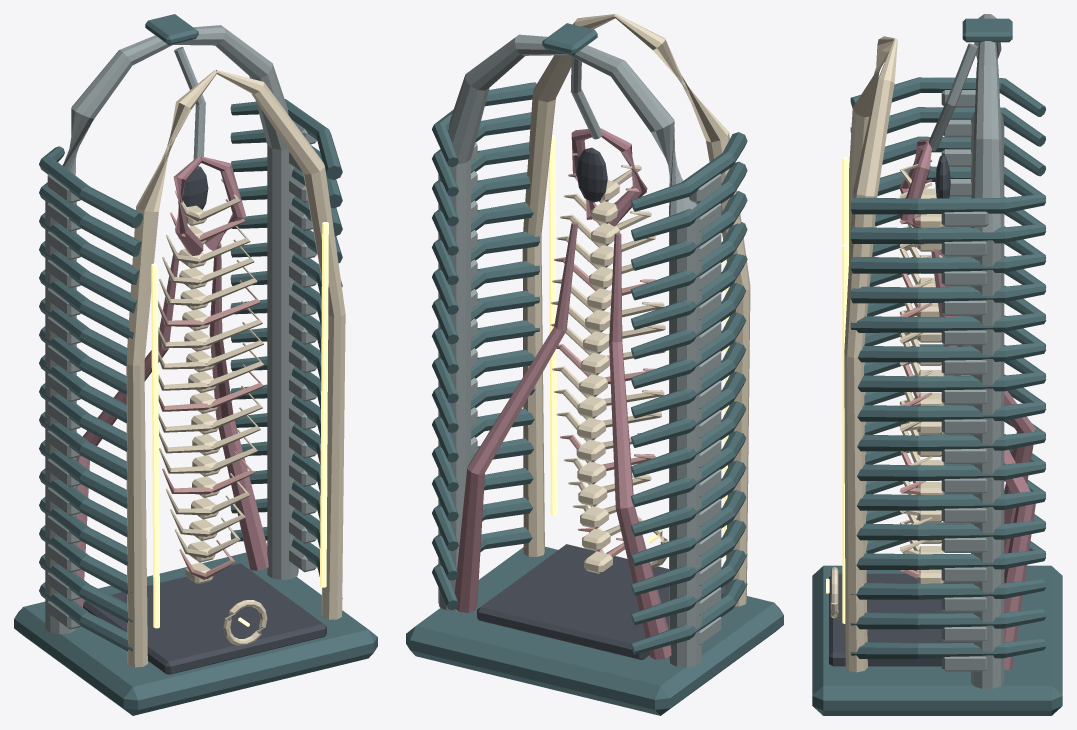
File: containment_capsule.glb
3 views of the same model, side by side, from view 1: azimuth 30°, elevation 25°; view 2: azimuth 150°, elevation 25°; view 3: azimuth 270°, elevation 25° (orthographic). The views are drawn at different scales.
Parts seen in each view (by area): view 1: containment_capsule_petrol, containment_capsule_warm, containment_capsule_worn, containment_capsule_deep, containment_capsule_bruised, containment_capsule_sick, containment_capsule_suture; view 2: containment_capsule_petrol, containment_capsule_worn, containment_capsule_warm, containment_capsule_bruised, containment_capsule_deep, containment_capsule_sick, containment_capsule_suture; view 3: containment_capsule_petrol, containment_capsule_worn, containment_capsule_warm, containment_capsule_deep, containment_capsule_bruised, containment_capsule_sick, containment_capsule_suture.
Boxes of the visible parts, x1,y1,x2,y2 form: containment_capsule_petrol: (14,14,377,715); containment_capsule_warm: (126,70,345,667); containment_capsule_worn: (45,25,317,634); containment_capsule_deep: (83,166,326,674); containment_capsule_bruised: (76,156,268,607); containment_capsule_sick: (151,222,328,628); containment_capsule_suture: (158,199,263,579); containment_capsule_petrol: (406,23,783,715); containment_capsule_worn: (438,34,721,667); containment_capsule_warm: (522,14,750,606); containment_capsule_bruised: (454,128,671,659); containment_capsule_deep: (477,147,725,659); containment_capsule_sick: (548,135,729,557); containment_capsule_suture: (554,173,656,557); containment_capsule_petrol: (812,18,1062,715); containment_capsule_worn: (928,14,1004,688); containment_capsule_warm: (830,36,943,672); containment_capsule_deep: (829,155,970,666); containment_capsule_bruised: (899,139,1035,669); containment_capsule_sick: (826,157,848,623); containment_capsule_suture: (899,179,932,578).
Size of the model in its own units: 2.2 by 5 by 1.8.
